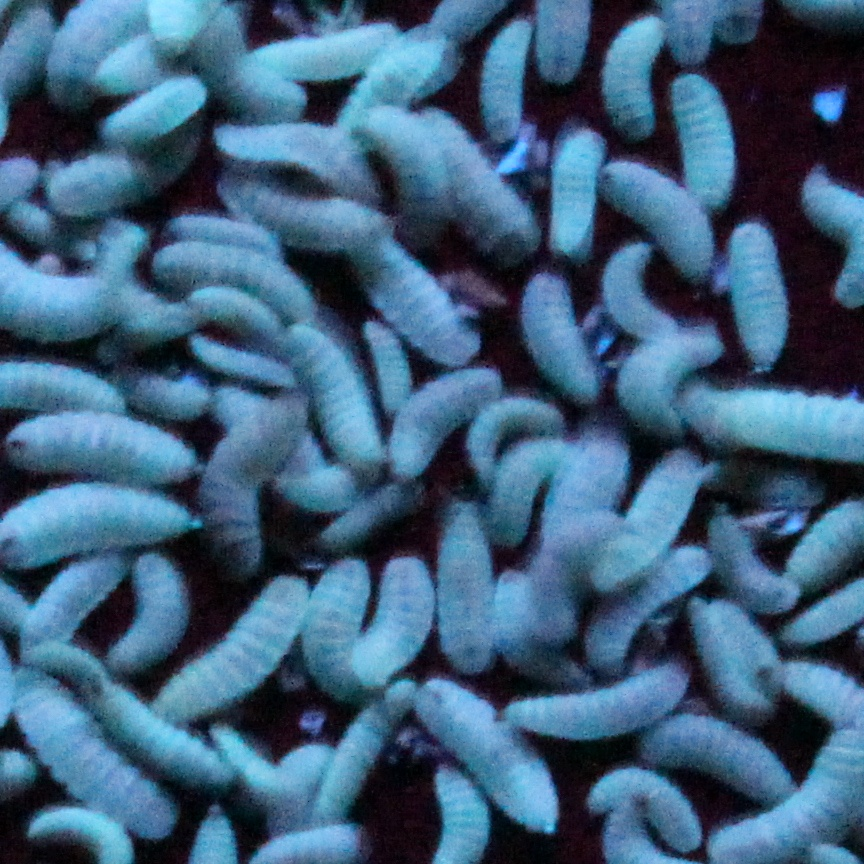larve: (23, 672, 174, 845), (414, 678, 561, 831), (199, 404, 315, 560), (415, 109, 528, 254), (179, 575, 299, 709), (598, 447, 702, 592), (365, 229, 471, 364), (590, 557, 716, 670), (595, 157, 718, 272), (512, 661, 686, 741), (85, 670, 212, 776), (231, 175, 379, 263), (588, 753, 704, 859), (295, 322, 379, 467), (148, 239, 312, 313), (12, 417, 190, 483), (384, 372, 494, 476), (20, 557, 136, 654), (344, 34, 469, 121), (618, 335, 737, 423), (635, 731, 796, 796), (349, 113, 436, 229), (215, 129, 374, 188), (720, 211, 779, 367), (545, 427, 622, 543), (248, 29, 399, 88), (439, 506, 492, 672), (698, 610, 773, 727), (694, 525, 800, 606), (365, 551, 433, 676), (113, 554, 187, 668), (486, 439, 561, 545), (533, 272, 598, 394), (540, 122, 603, 247), (672, 81, 731, 204), (313, 563, 369, 691), (596, 243, 669, 339), (471, 402, 561, 476), (608, 24, 671, 129), (107, 78, 202, 147), (482, 14, 531, 136), (185, 283, 285, 342), (222, 737, 300, 812), (48, 158, 141, 217), (353, 319, 408, 410), (322, 712, 369, 814), (190, 332, 284, 380), (333, 488, 408, 547), (174, 211, 279, 249), (97, 37, 154, 91)
